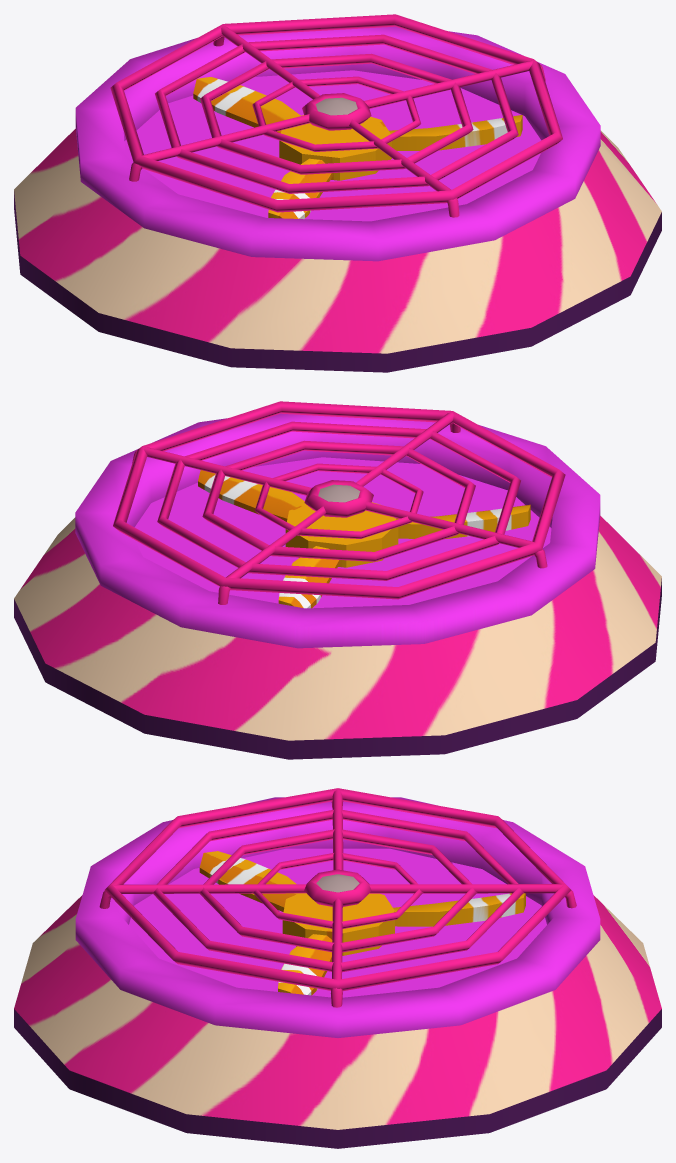
File: OBS0110014.fbx
3 renders of one model, top to bottom at view 1: azimuth 30°, elevation 25°; view 2: azimuth 150°, elevation 25°; view 3: azimuth 270°, elevation 25°, orthographic.
Parts seen in each view (by area): view 1: smOBS0110014; view 2: smOBS0110014; view 3: smOBS0110014.
Part boxes in pixels (x1,y1,x2,y2): smOBS0110014: (14,14,661,372); smOBS0110014: (14,401,661,759); smOBS0110014: (14,788,661,1148).
Bounding box in the file's own units: 457 × 106 × 460.
Materials: 1 (1 with a texture image).
